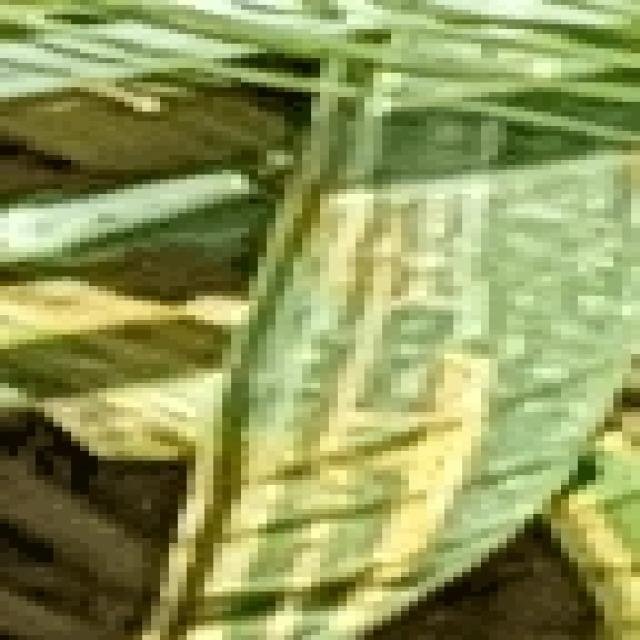Yellow Rust: (286, 159, 467, 577)
